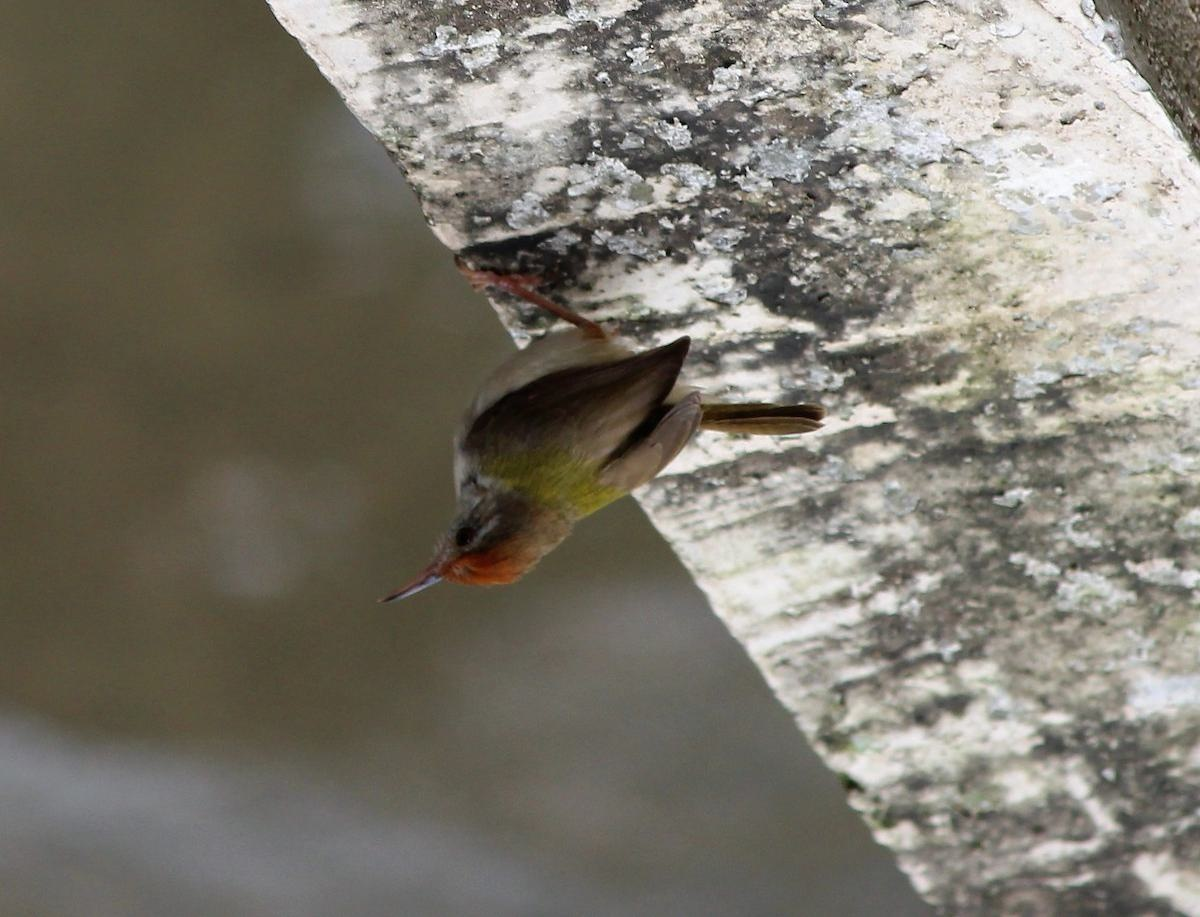tailorbird: (350, 298, 845, 632)
